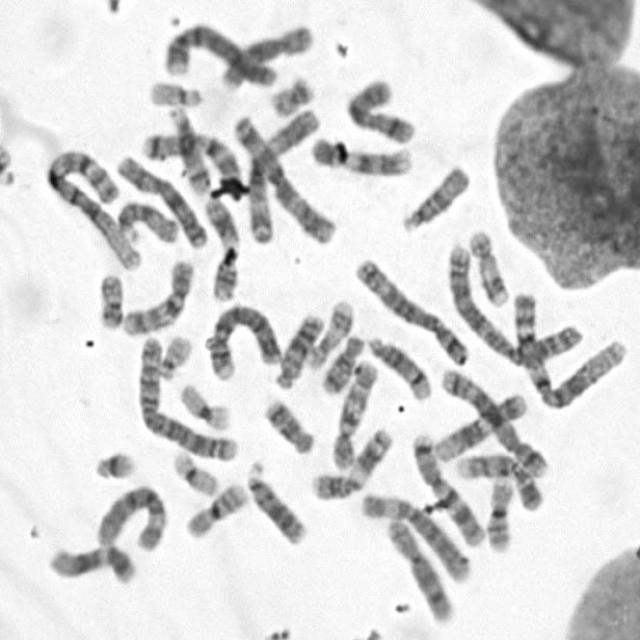A1: (507, 287, 627, 411), (41, 145, 142, 274)
A2: (442, 240, 582, 368), (132, 330, 239, 464)
A3: (230, 110, 334, 244), (244, 106, 321, 247)
B4: (164, 19, 279, 89), (202, 298, 282, 380)
B5: (352, 253, 471, 367), (438, 365, 550, 478)
C10: (118, 256, 196, 338), (328, 356, 379, 471)
C11: (308, 425, 392, 501), (202, 198, 245, 305)
C12: (430, 389, 530, 464), (45, 540, 139, 586)
C6: (357, 488, 473, 584), (92, 480, 168, 554)
C7: (410, 429, 486, 546), (138, 126, 243, 180)
C8: (383, 515, 456, 626), (216, 23, 312, 92)
C9: (454, 446, 545, 512), (306, 133, 414, 179)
D13: (243, 456, 309, 546), (271, 316, 325, 391)
D14: (365, 334, 432, 400), (164, 102, 211, 195)
D15: (397, 163, 469, 234), (113, 199, 178, 249)
E16: (182, 479, 249, 534), (483, 473, 512, 551)
E17: (304, 298, 356, 372), (466, 227, 508, 309)
E18: (318, 328, 367, 396), (266, 396, 315, 455)
F19: (176, 377, 232, 432), (168, 446, 220, 496)
F20: (264, 76, 312, 117), (96, 270, 124, 331)
G21: (88, 448, 138, 482)
G22: (160, 331, 194, 381), (150, 78, 204, 109)
X: (113, 152, 209, 250), (343, 76, 420, 146)
